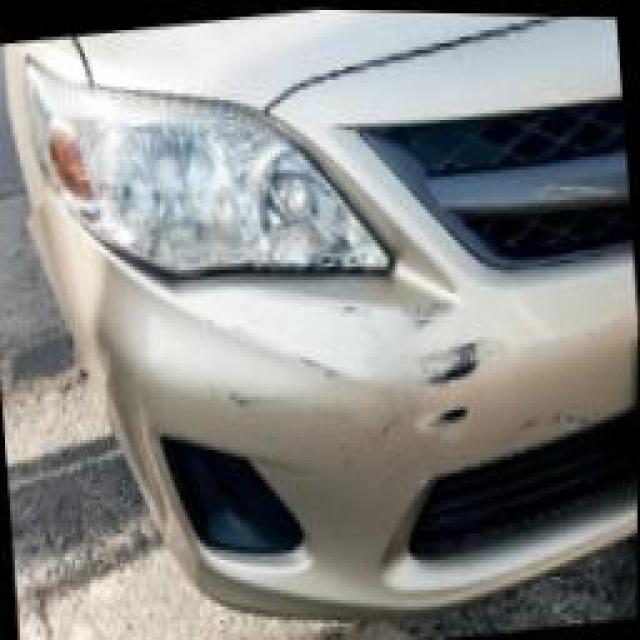Bumper: (205, 243, 617, 603)
